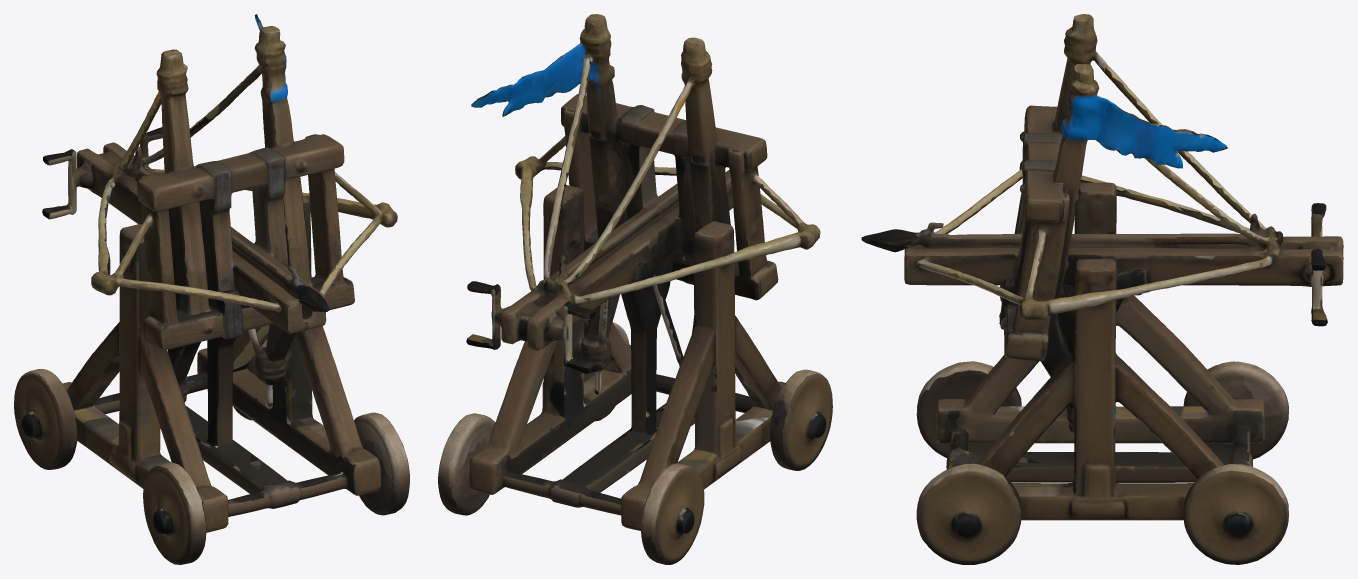
File: springald-hunyuan-mv.glb
The picture shows the model from 3 angles, left to right: view 1: azimuth 30°, elevation 25°; view 2: azimuth 150°, elevation 25°; view 3: azimuth 270°, elevation 25°; orthographic projection. The views are drawn at different scales.
Visible parts, largest first — view 1: tmp3ob9jttu.ply; view 2: tmp3ob9jttu.ply; view 3: tmp3ob9jttu.ply.
Part boxes in pixels (x1,y1,x2,y2): tmp3ob9jttu.ply: (14, 14, 409, 564); tmp3ob9jttu.ply: (438, 14, 832, 564); tmp3ob9jttu.ply: (861, 14, 1343, 564).
Size of the model in its own units: 0.6813 by 0.9876 by 0.92.
Materials: 1 (1 with a texture image).
